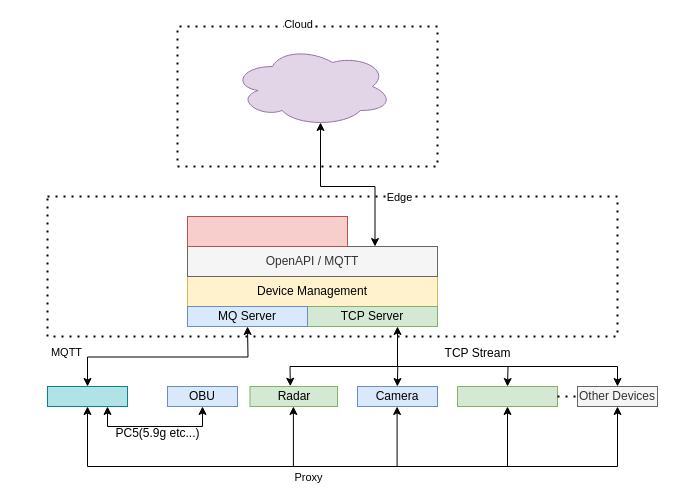
The diagram is 675 pixels wide and 500 high, and some of its shapes have lost their labels. Each missing label, with the box of its shape:
Cloud V2X System: (232, 46, 392, 126)
Dashboard: (186, 216, 348, 246)
RSU: (46, 386, 128, 406)
Traffic Lights: (456, 386, 558, 406)
